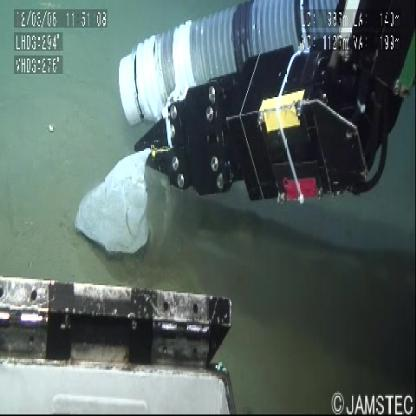Rov: (118, 2, 412, 214), (1, 274, 250, 414)
Rác: (72, 139, 172, 262)
